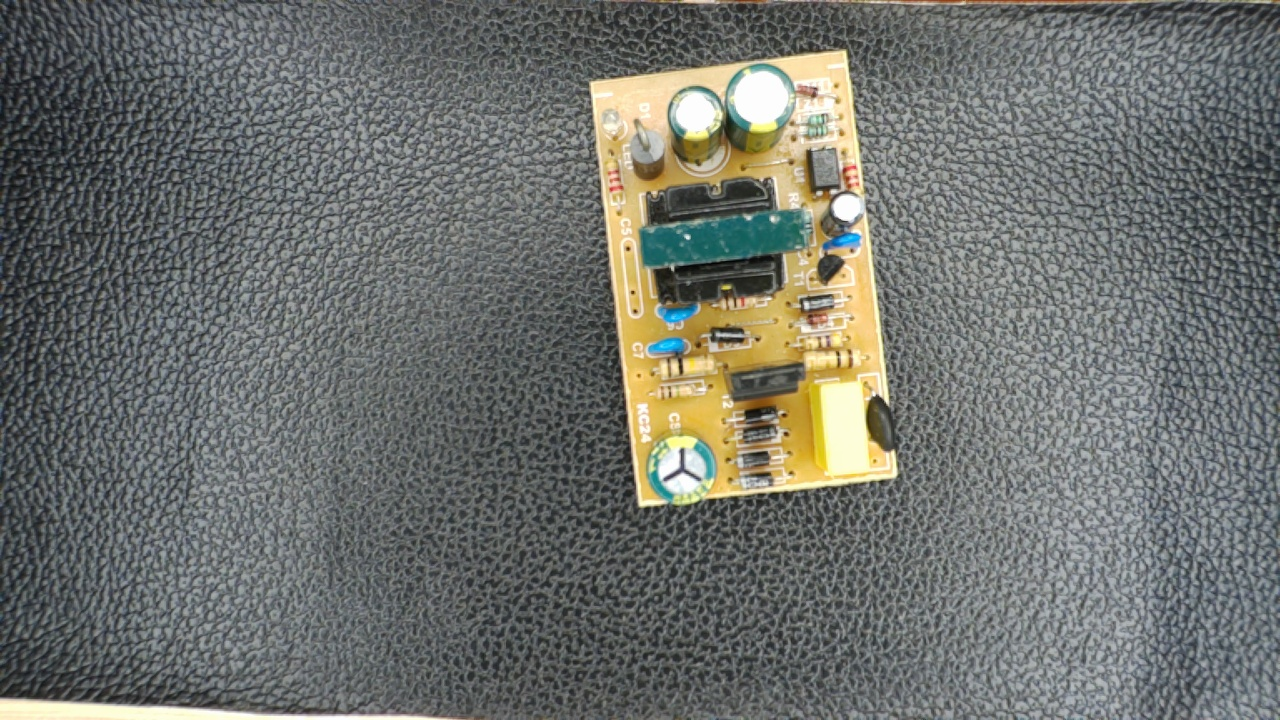fuse: (860, 378, 897, 465)
hv_capacitor: (641, 428, 719, 507)
optocoupler: (800, 138, 846, 200)
